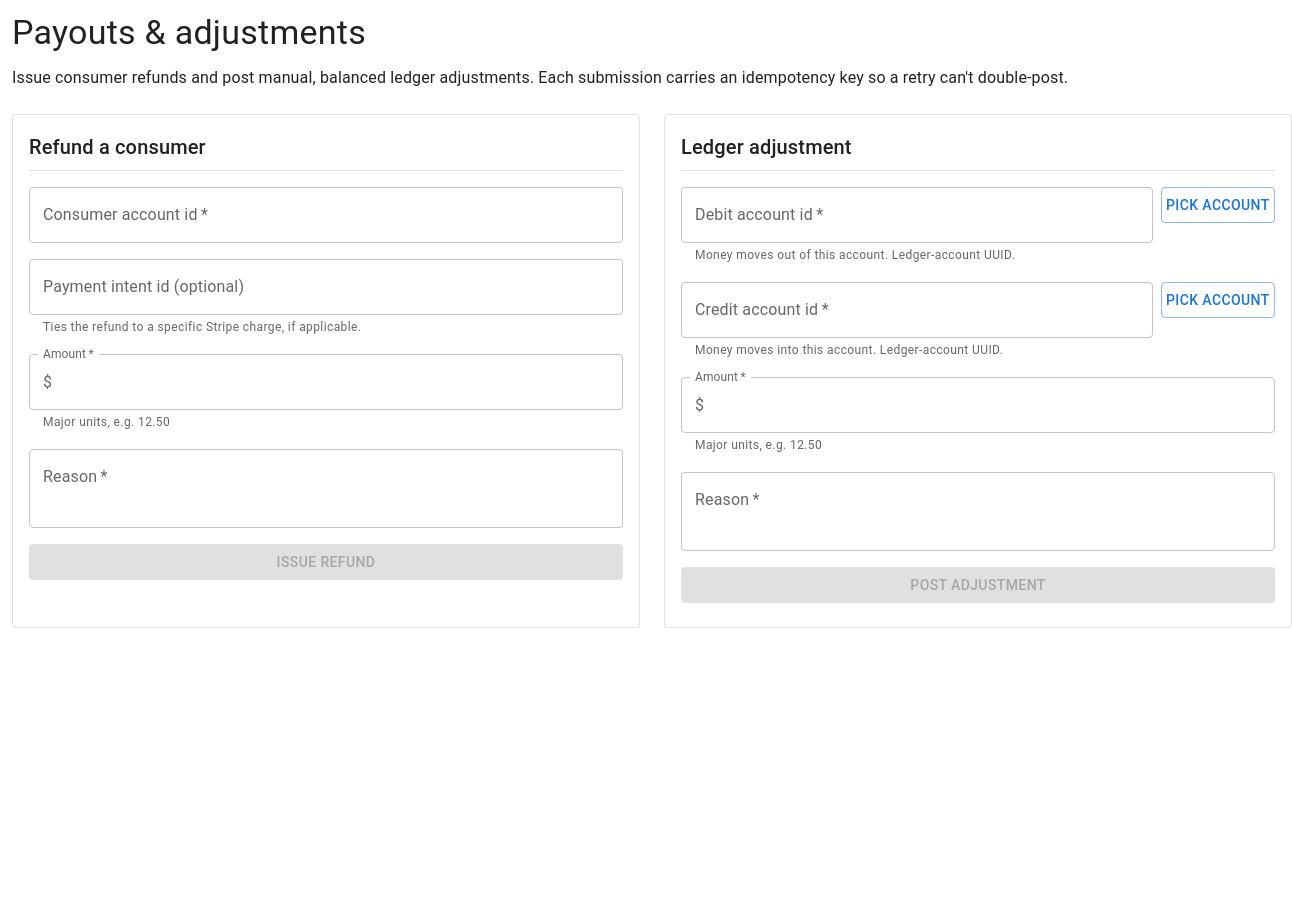
Test: PayoutsPanel › issues a refund, converting dollars to minor units with an idempotency key
Type "u-1" into the field named "Refund consumer id".
click(326, 215); type("u-1")  # box [29,187,623,243]
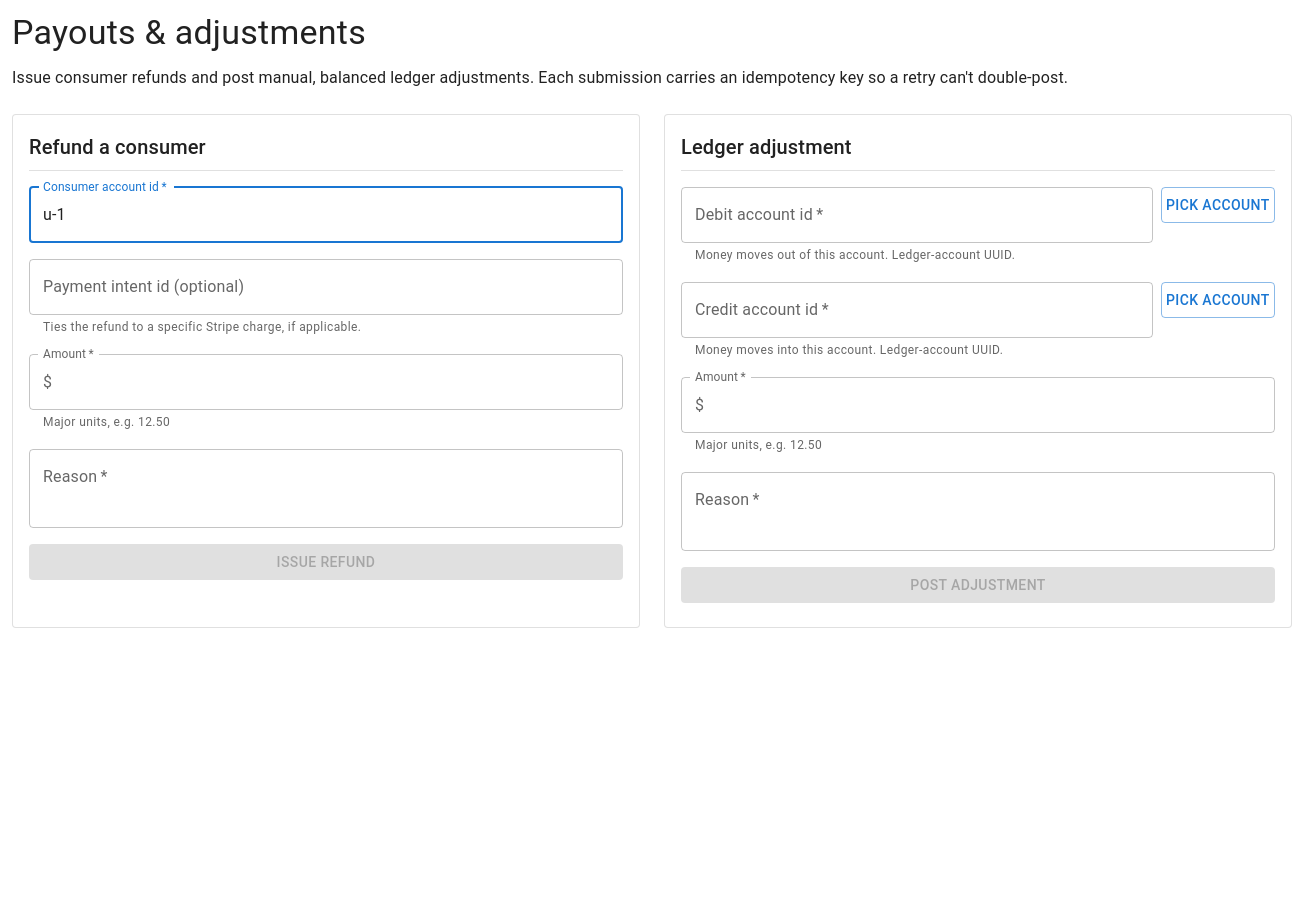
Type "12.50" into the field named "Refund amount".
click(342, 382); type("12.50")  # box [60,354,623,410]
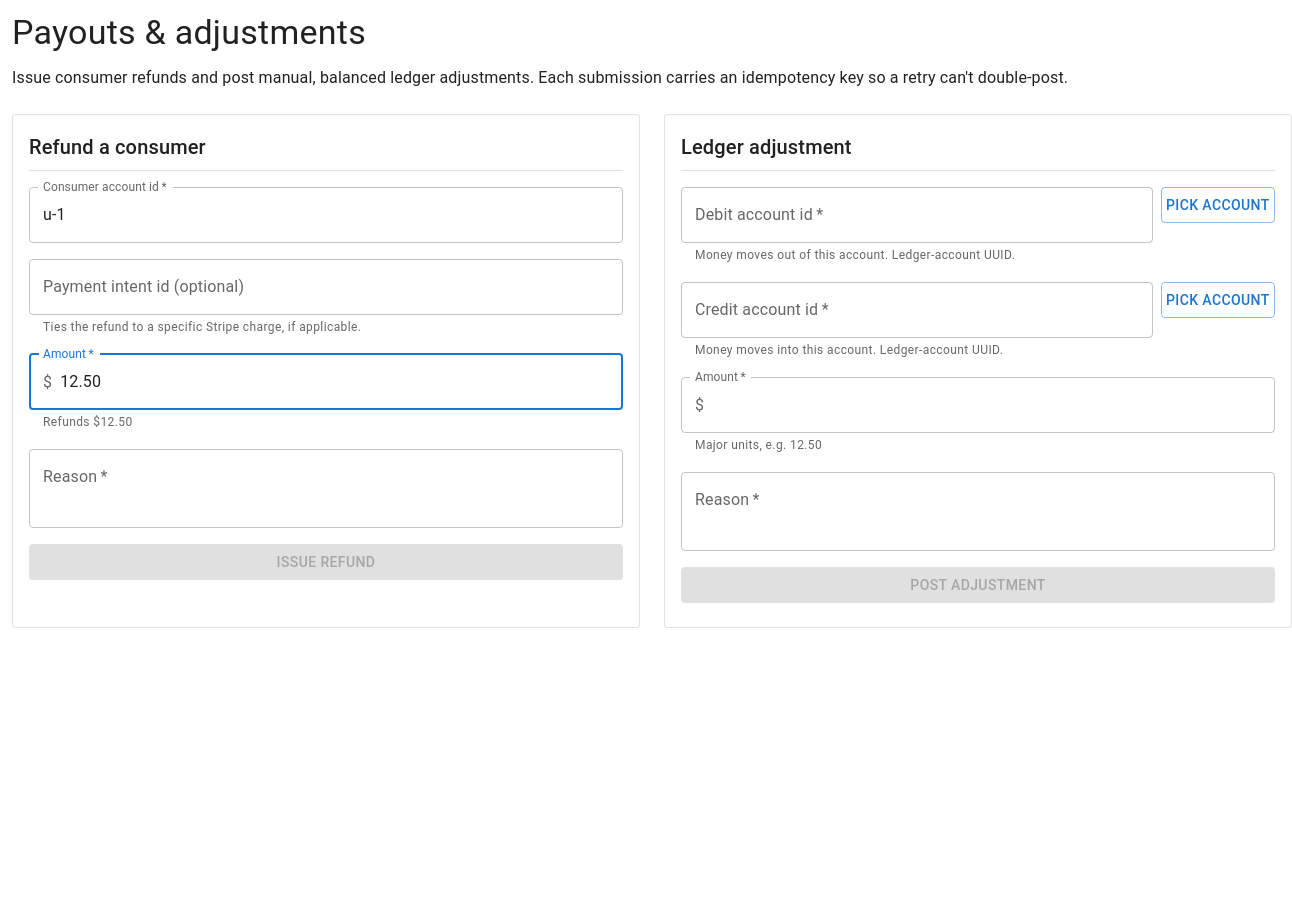
Type "service outage" into the text box named "Refund reason".
click(326, 488); type("service outage")  # box [43,465,609,511]
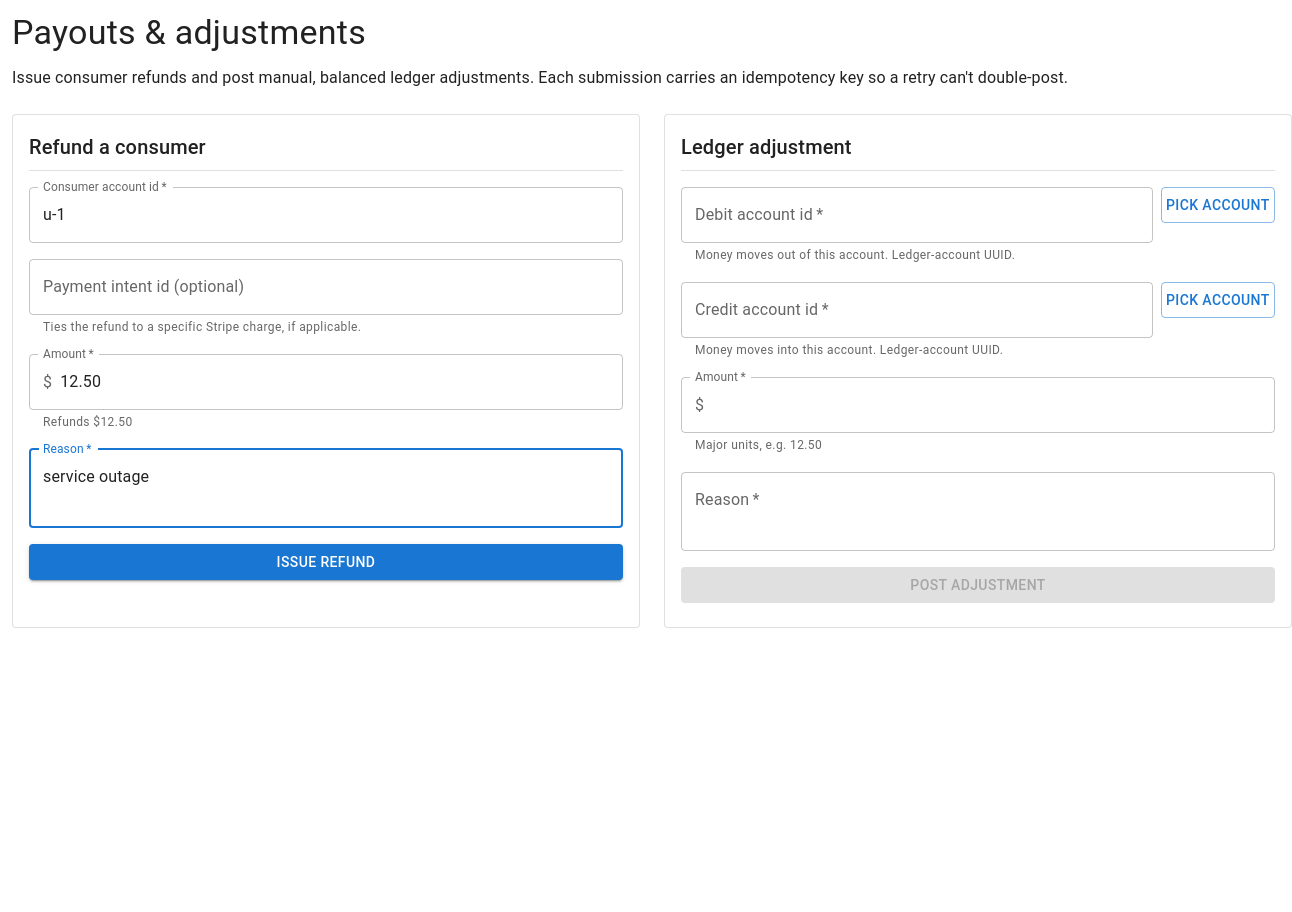
Click the button "Issue refund".
click(326, 562)  # box [29,544,623,580]
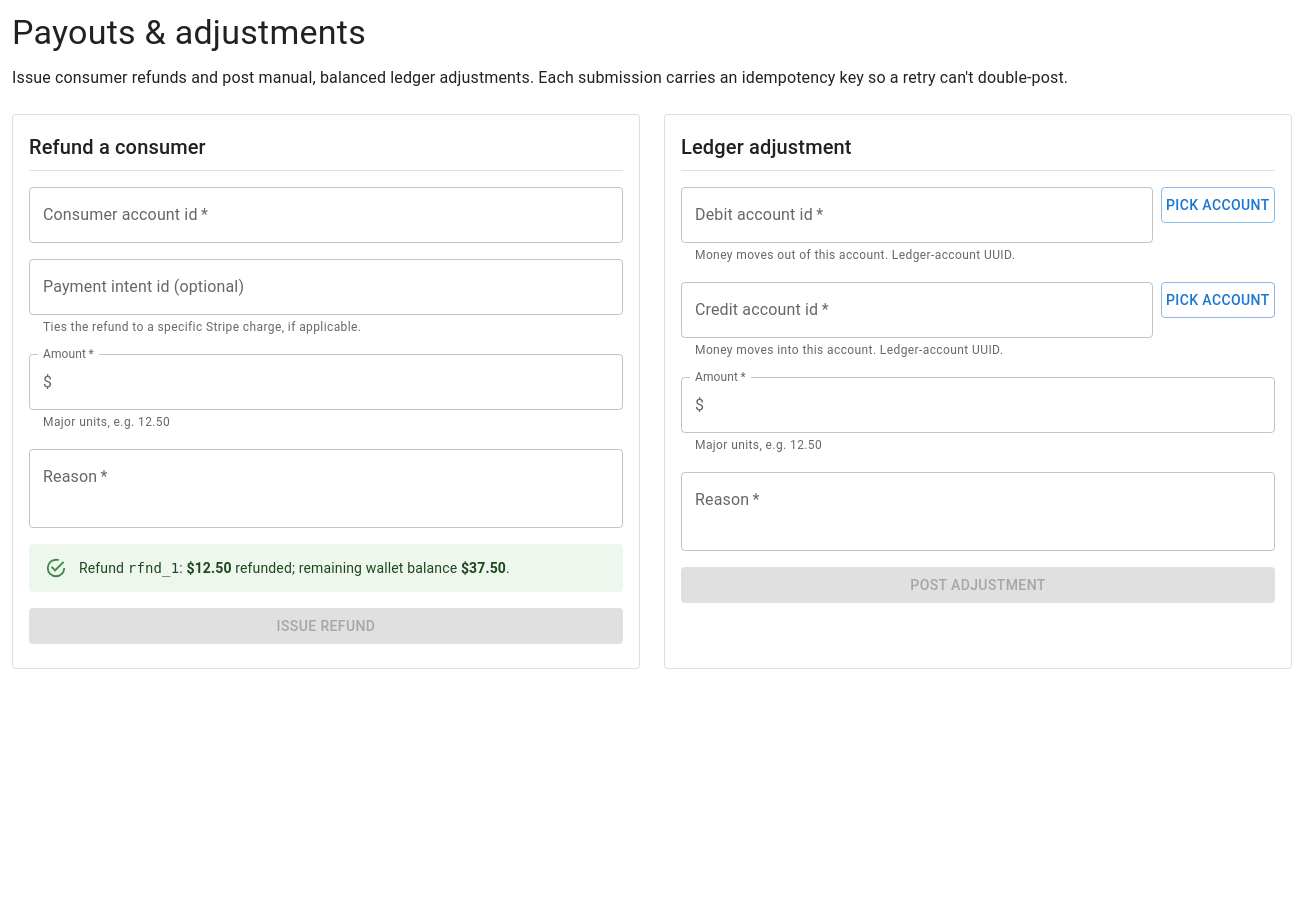
Expected: the text "$12.50" is shown, [186,560,232,576]
Expected: the text "Refund rfnd_1: $12.50 refunded; remaining wallet balance $37.50." is shown, [29,544,623,592]
Expected: the text "remaining wallet balance" is shown, [235,560,457,576]
